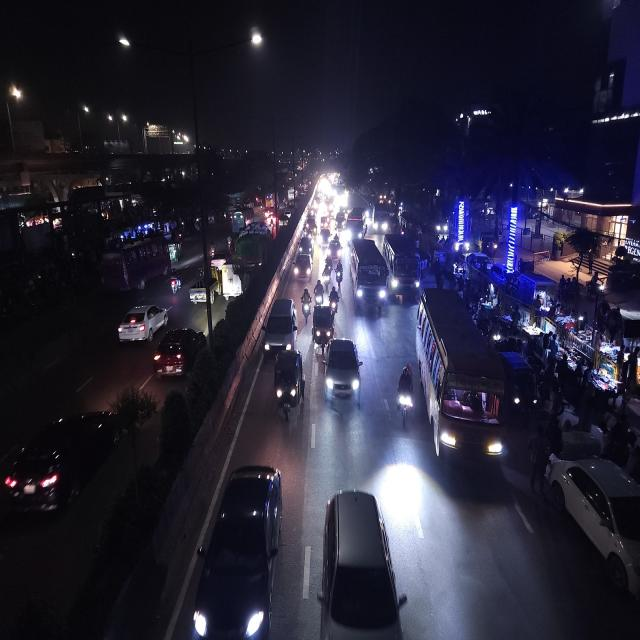bus: (415, 288, 507, 483), (99, 234, 169, 292), (348, 235, 389, 316), (384, 233, 420, 303), (347, 206, 368, 240), (373, 201, 391, 234)
car: (190, 459, 284, 640), (1, 399, 127, 526), (316, 482, 407, 640), (547, 451, 640, 603), (154, 322, 206, 380), (322, 336, 362, 410), (115, 300, 169, 348), (262, 293, 298, 358), (291, 250, 313, 284), (296, 234, 314, 256), (328, 236, 343, 262), (319, 226, 331, 249), (335, 211, 347, 232), (278, 211, 292, 228)
cng: (272, 345, 306, 424), (504, 348, 538, 424), (312, 304, 333, 359), (478, 232, 498, 258)
motorcycle: (393, 361, 415, 430), (300, 286, 312, 321), (328, 284, 340, 316), (169, 270, 183, 296), (314, 276, 325, 308), (334, 258, 344, 288), (208, 238, 218, 260)
pedestrian: (526, 426, 551, 495)
pickup_van: (188, 268, 220, 309)
truck: (262, 294, 298, 358), (234, 231, 270, 274), (220, 260, 242, 303)
